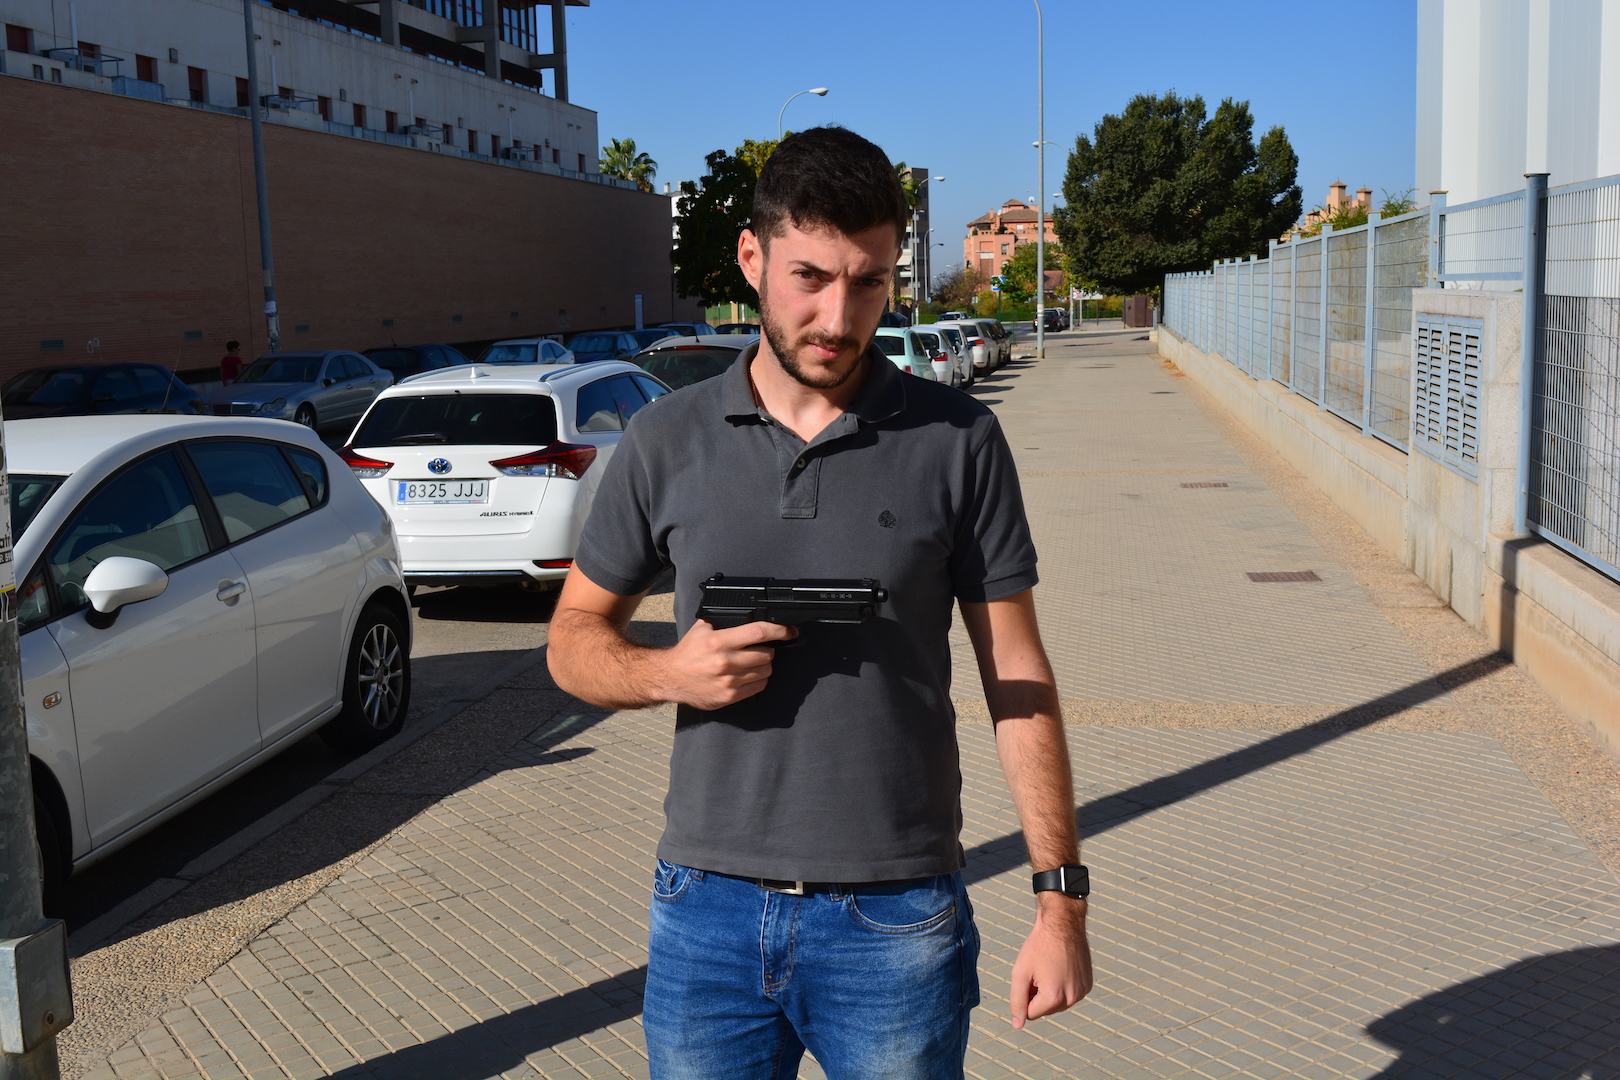pistol: (693, 571, 888, 651)
